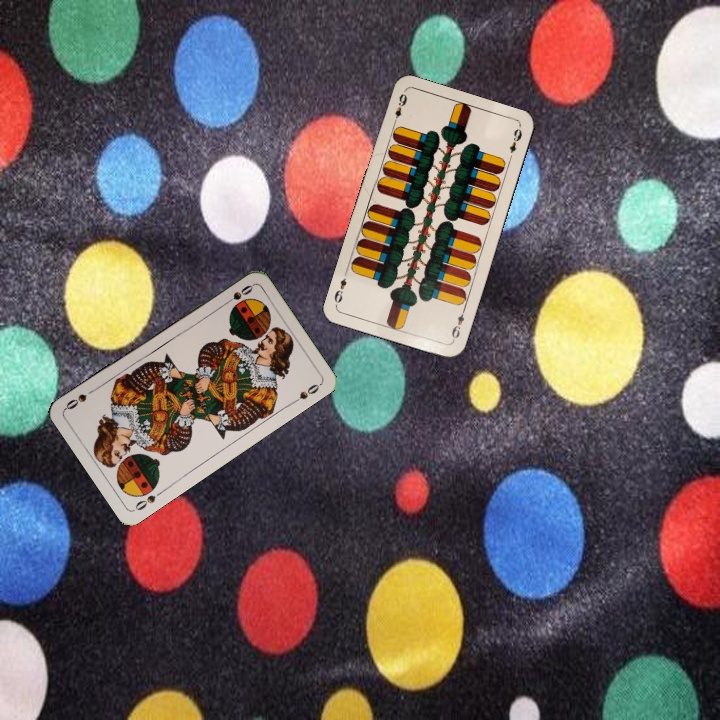E9: (447, 304, 468, 344), (389, 89, 410, 128)
SO: (219, 281, 256, 308), (131, 486, 166, 513)
